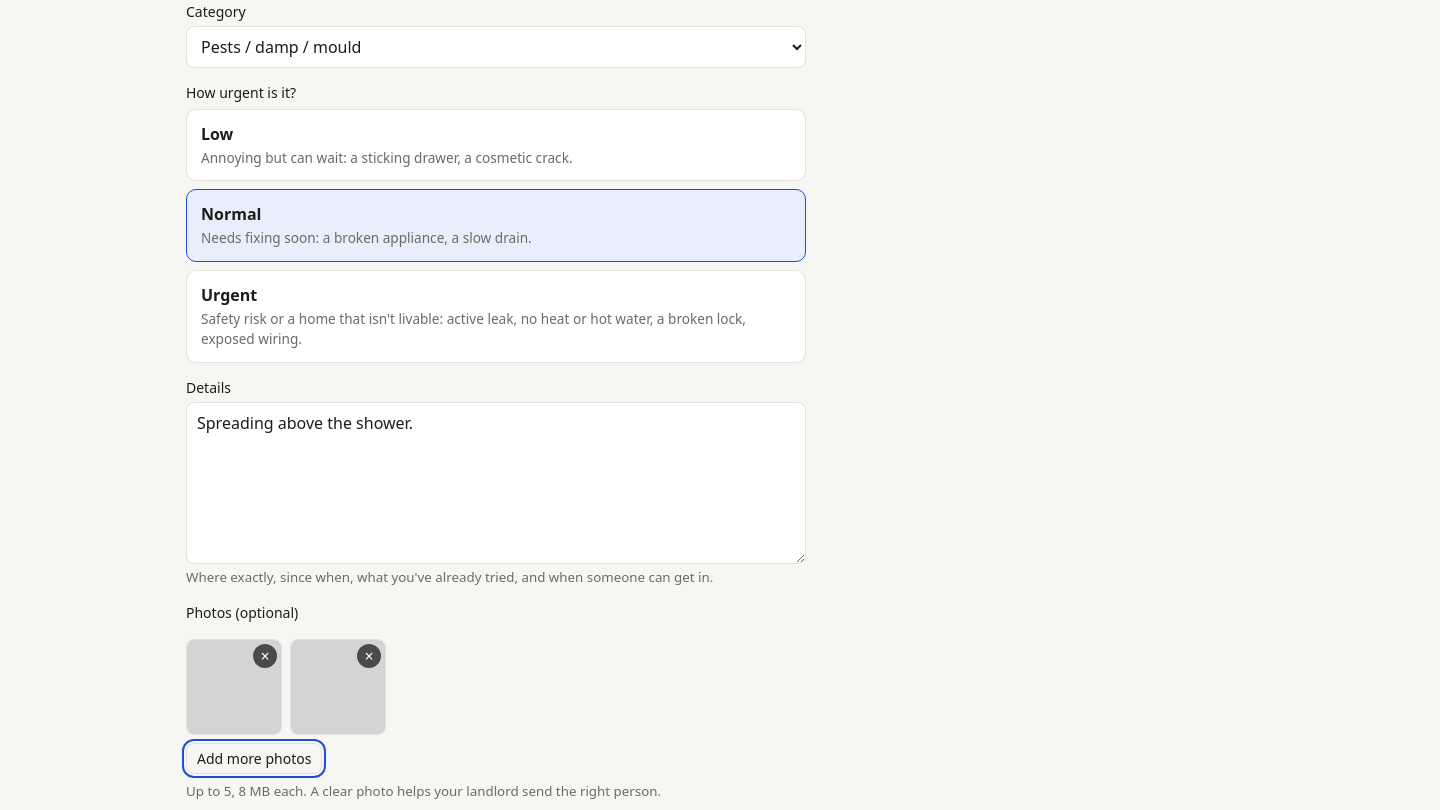
Scenario: photo uploads › a report with photos is sent as multipart with the files under 'photos'
This screenshot has width=1440, height=810.
Earlier steps of the test are not shown.
(page scrolled)
Click the button named "Remove closeup.png".
click(369, 656)  # box left=357, top=644, right=381, bottom=668
(page scrolled)
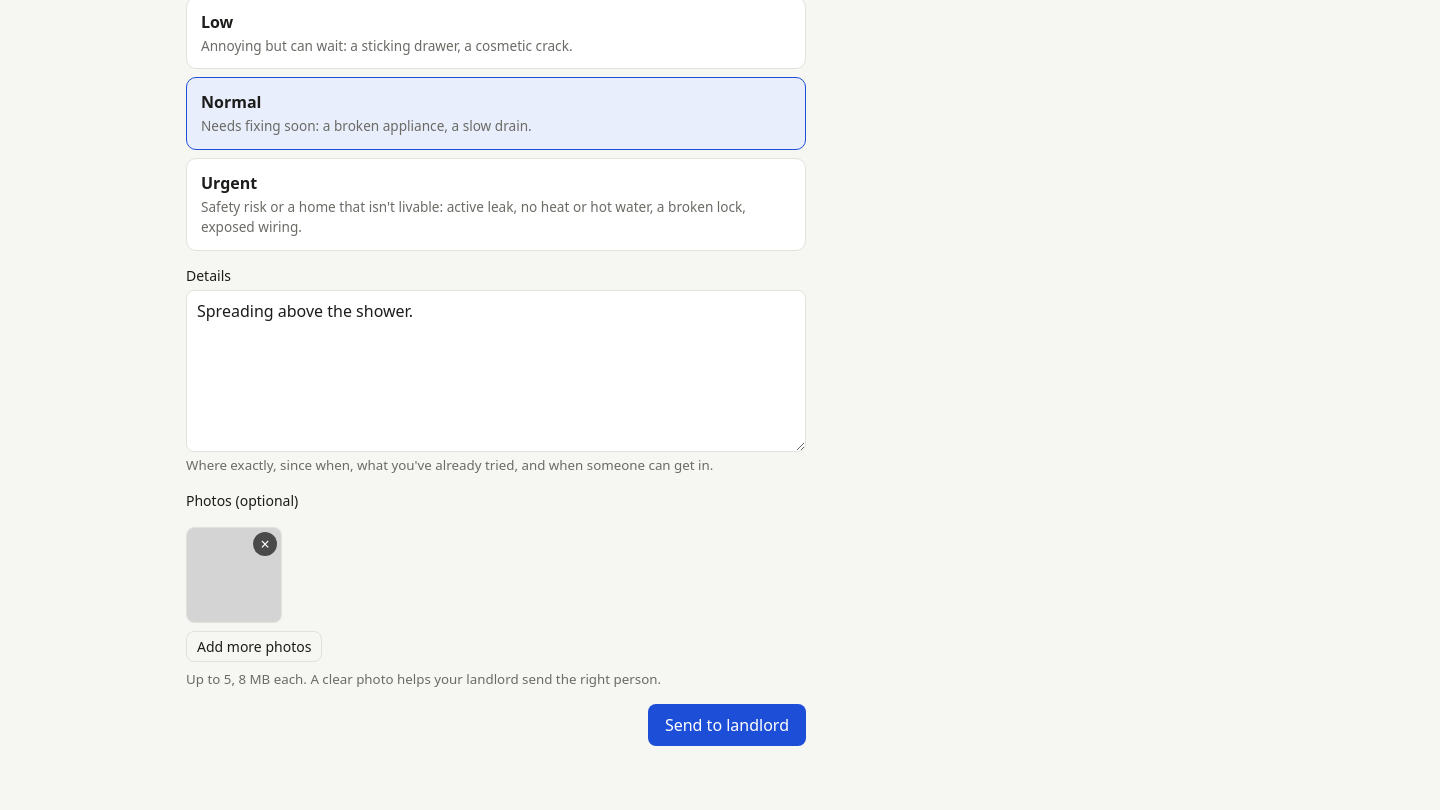
Click the button "Send to landlord".
click(727, 724)  # box left=648, top=704, right=806, bottom=746
(page scrolled)
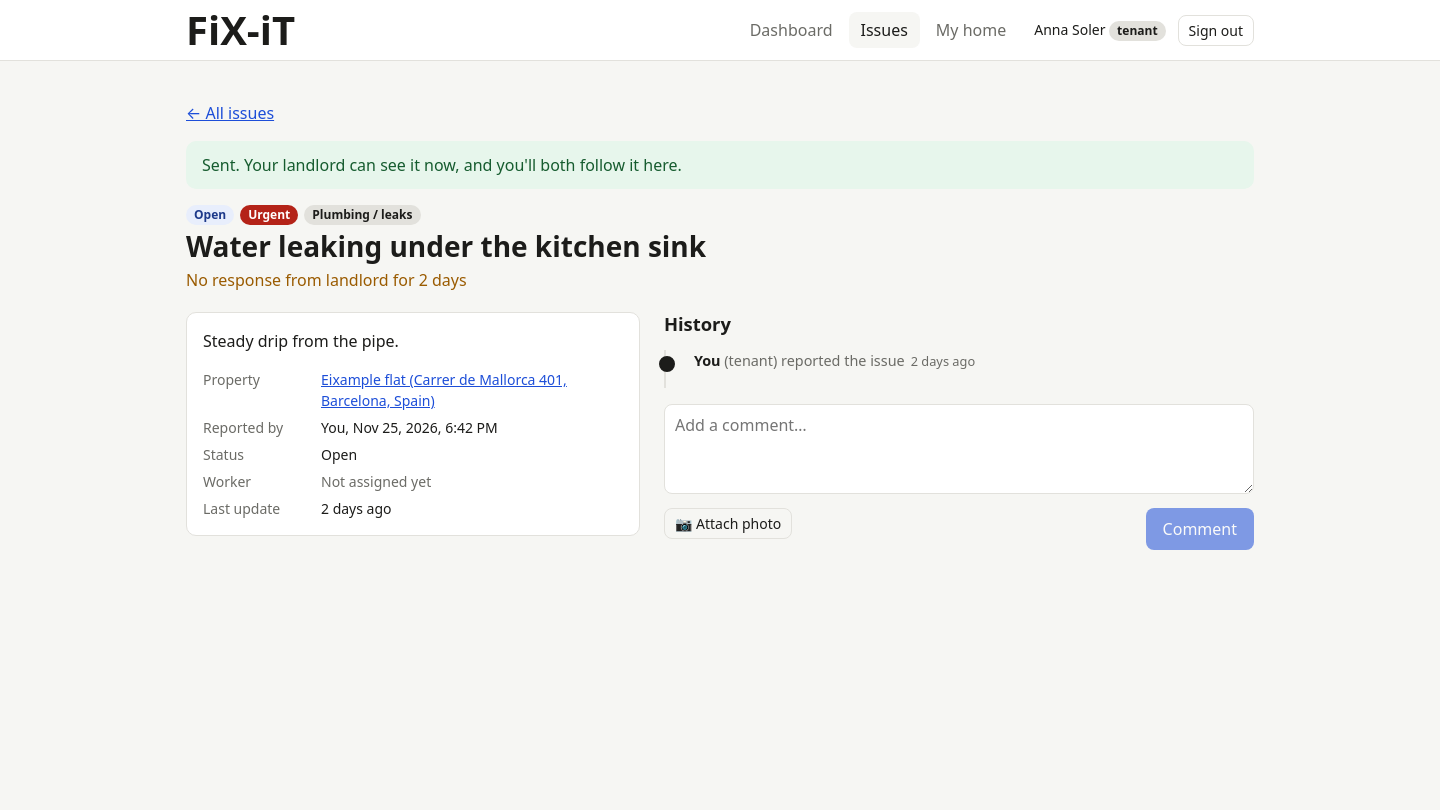
Expected: the text "Sent. Your landlord can see it now, and you'll both follow it here." is shown, left=186, top=141, right=1254, bottom=189
